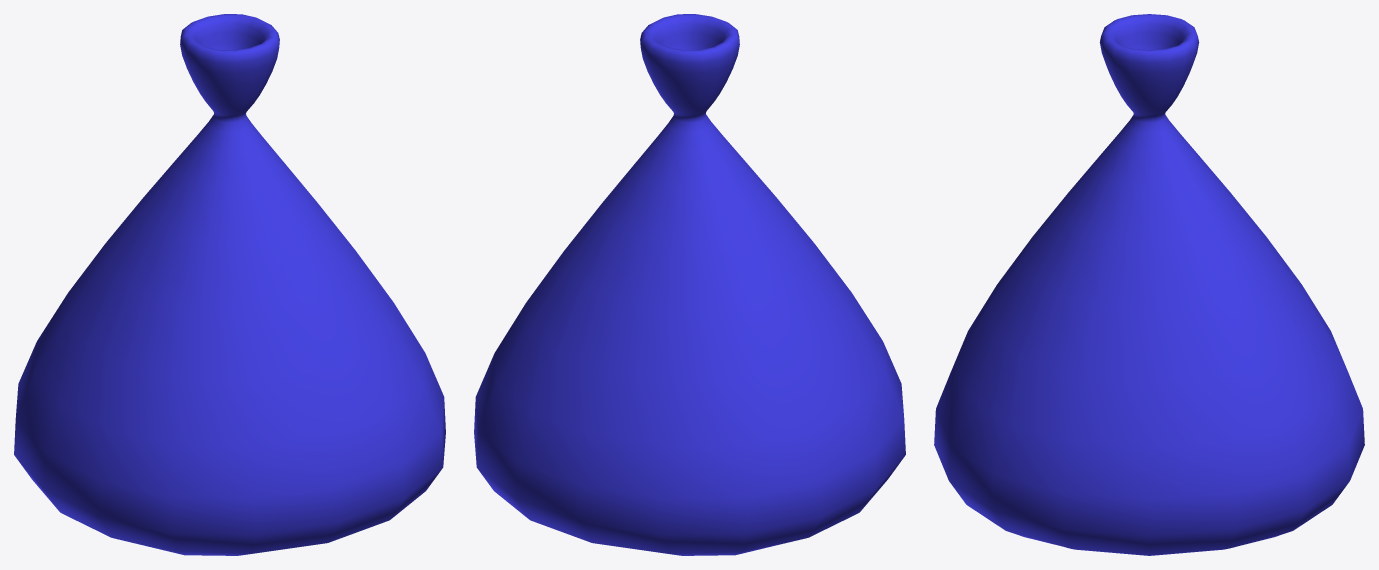
File: sm_moneybag_v2.fbx
The picture shows the model from 3 angles, left to right: view 1: azimuth 30°, elevation 25°; view 2: azimuth 150°, elevation 25°; view 3: azimuth 270°, elevation 25°; orthographic projection.
Visible parts, largest first — view 1: SM_Money.001; view 2: SM_Money.001; view 3: SM_Money.001.
Part boxes in pixels (bbox=[...]): SM_Money.001: bbox=[14, 14, 445, 555]; SM_Money.001: bbox=[474, 14, 905, 555]; SM_Money.001: bbox=[934, 14, 1364, 555].
Bounding box in the file's own units: 43.04 × 52.27 × 43.04.
